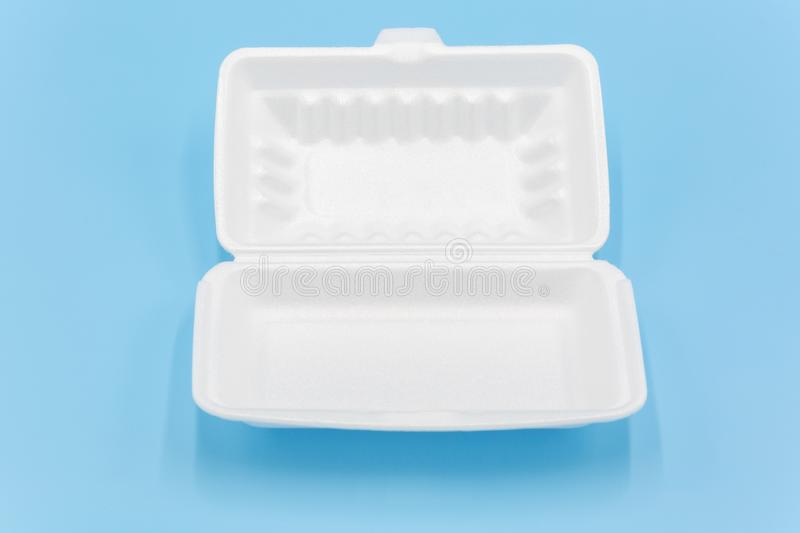Foam Box: (184, 22, 653, 439)
